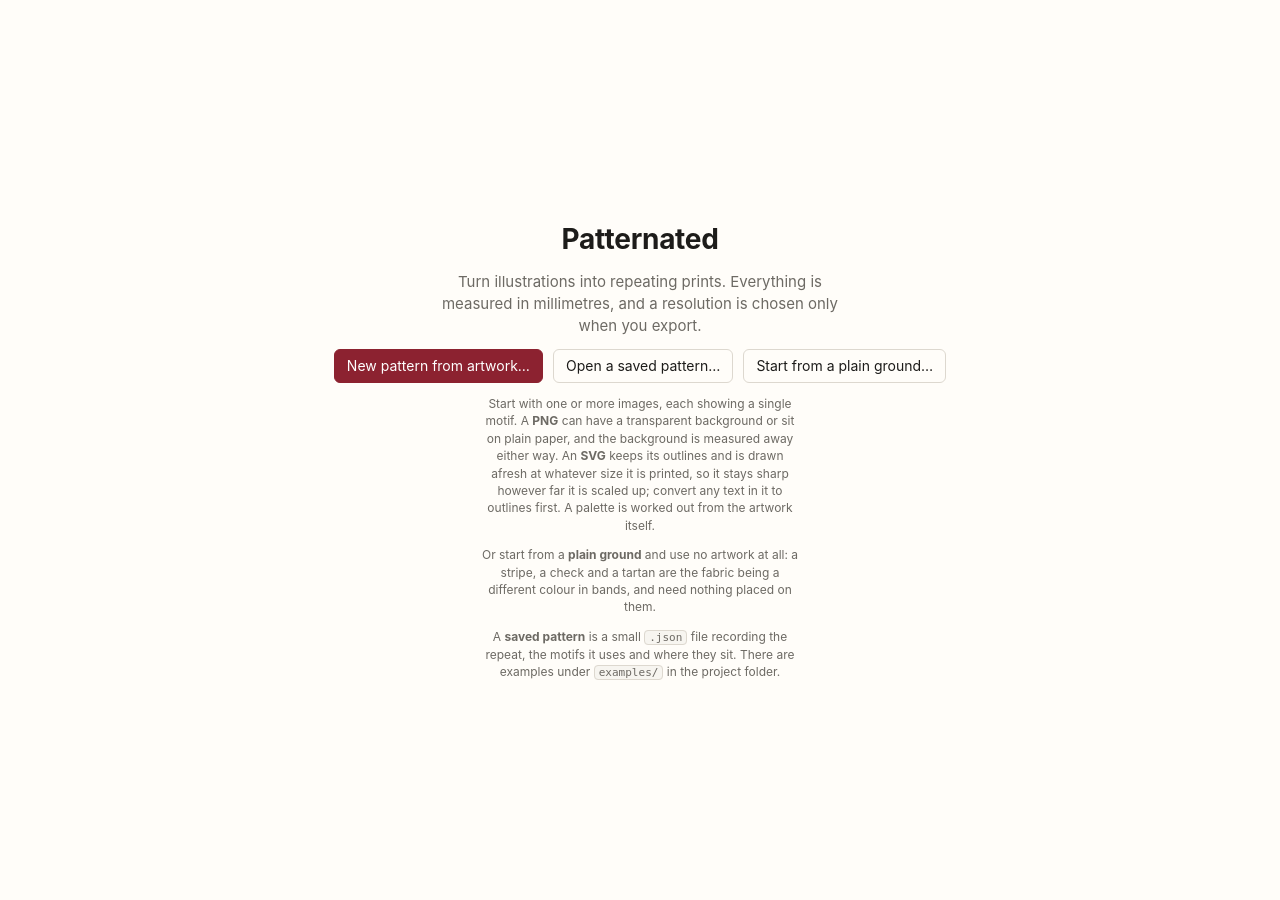
Test: which controls a layout shows › gives a scatter its coverage and a grid its rows
This screenshot has width=1280, height=900.
Step 1. Click the button "Open a saved pattern…" → click(643, 366), box [553,349,733,383]
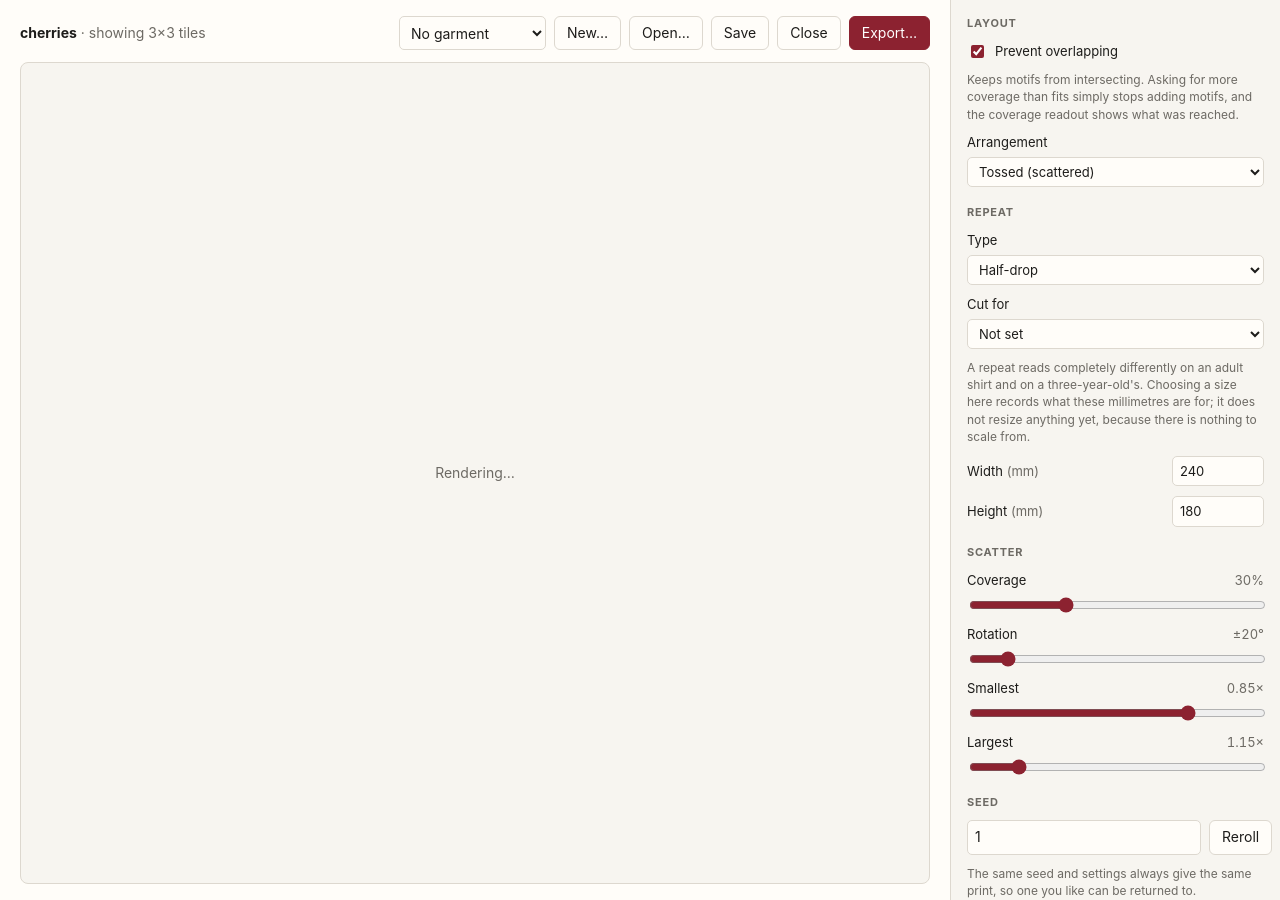
Expected: the button with test id "close" is shown, [777,16,841,50]
Expected: the slider with test id "coverage" is shown, [969,597,1266,613]
Step 2. Select "Brick" in the dropdown with test id "layout" → (1116, 172), box [967,157,1264,187]
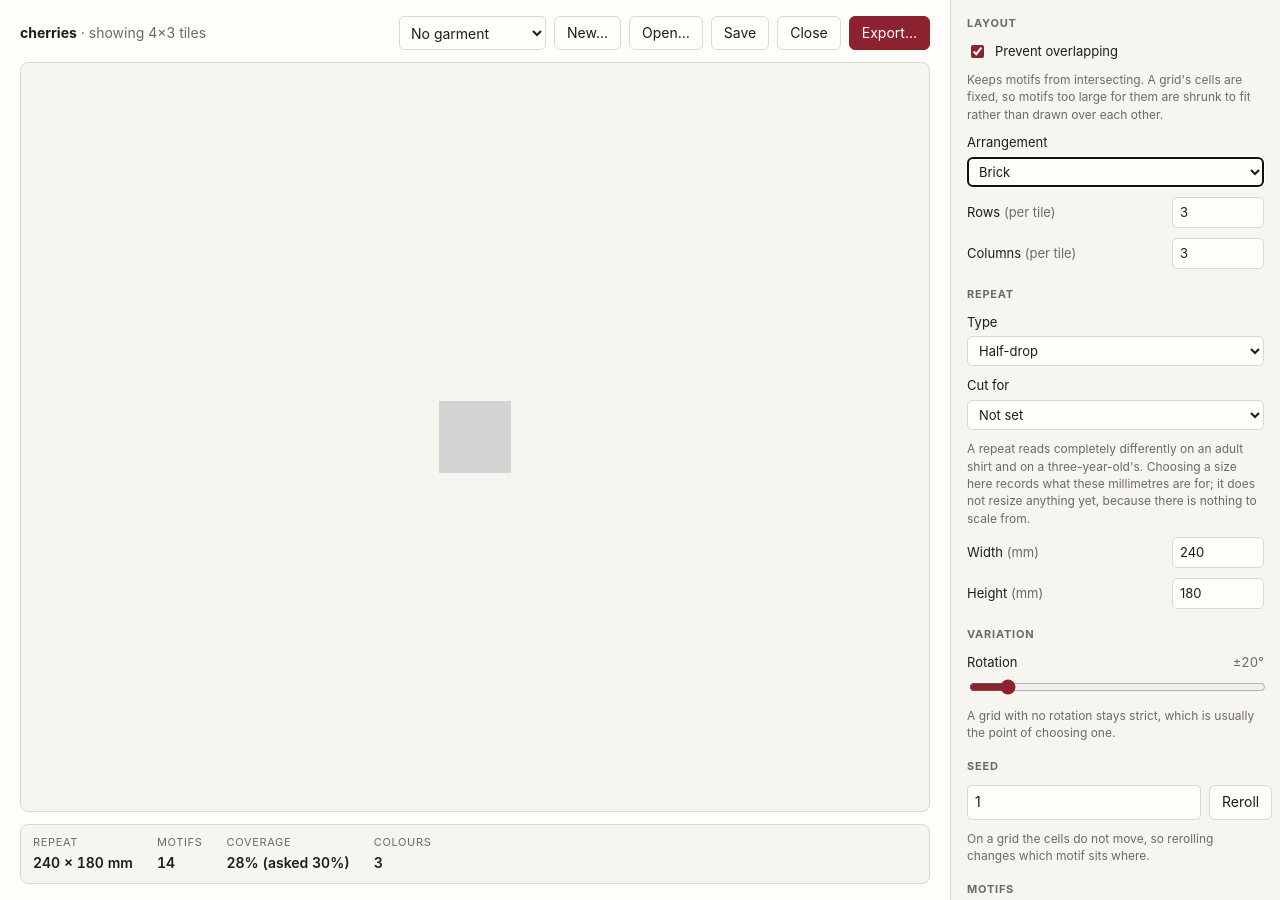
Expected: the number field with test id "grid-rows" is shown, [1172,197,1264,228]
Expected: the number field with test id "grid-cols" is shown, [1172,238,1264,269]
Expected: the slider with test id "coverage" is gone
